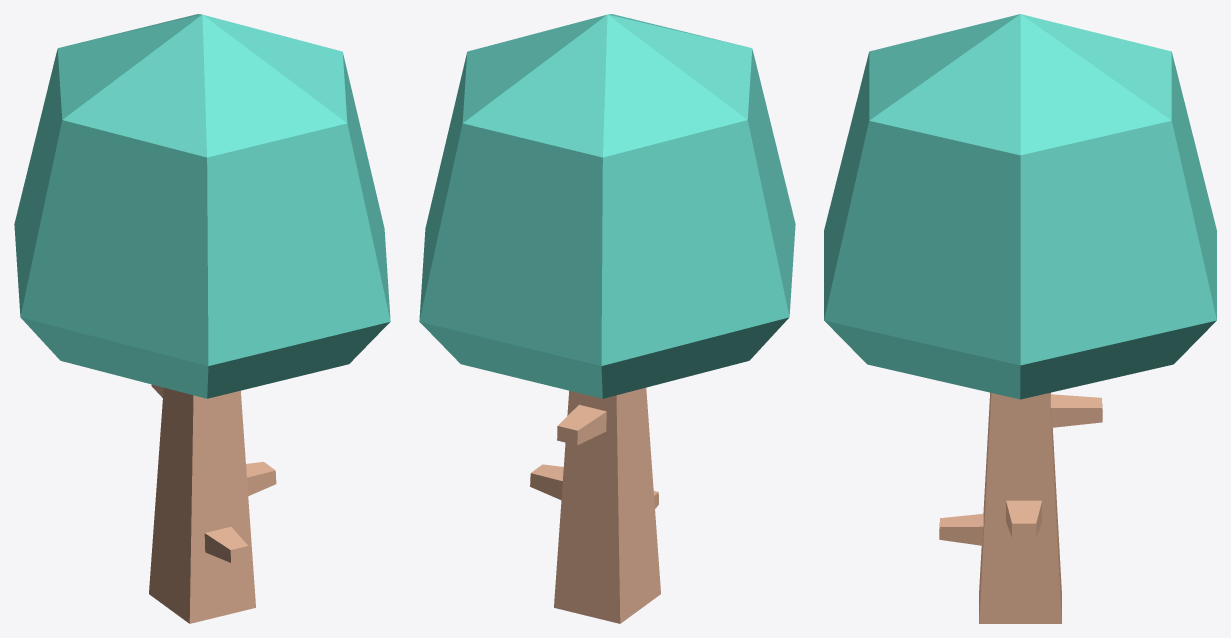
Rendered from broadleaf.glb.
The picture shows the model from 3 angles, left to right: view 1: azimuth 30°, elevation 25°; view 2: azimuth 150°, elevation 25°; view 3: azimuth 270°, elevation 25°; orthographic projection.
Visible parts, largest first — view 1: part-1, part-0; view 2: part-1, part-0; view 3: part-1, part-0.
Boxes of the visible parts, x1,y1,x2,y2 form: part-1: (14,14,390,398); part-0: (149,384,276,623); part-1: (419,14,795,398); part-0: (530,387,660,623); part-1: (824,14,1216,399); part-0: (939,392,1102,623).
Size of the model in its own units: 6.5 by 10 by 6.
